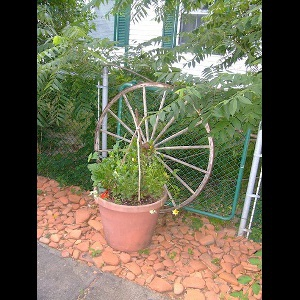flowerpot: (87, 169, 170, 258)
